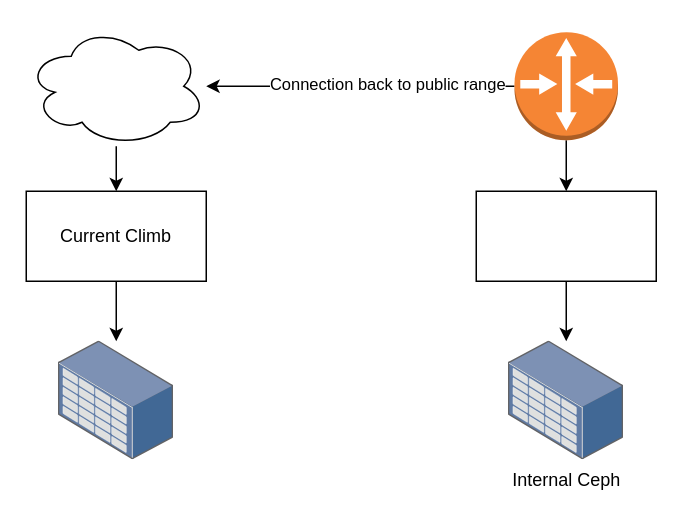
This 683x518 diagram has some shape labels left out. The shapes that lost their labels are listed below. From the top down, each one's centre as x and y in pixels, then its label:
At point (565, 235): "New openstack".
At point (115, 399): "Ceph".
